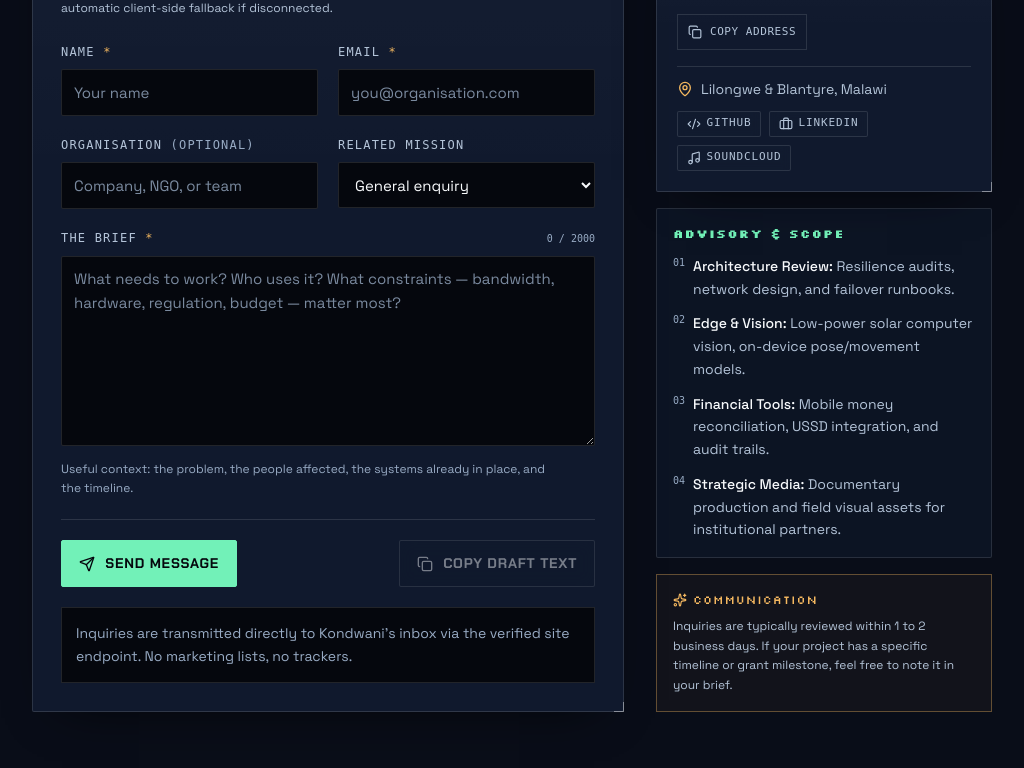
Test: <ContactView /> › blocks an empty submission and surfaces field errors
(page scrolled)
Click the button "Send message" at point(149, 564), box left=61, top=540, right=237, bottom=587
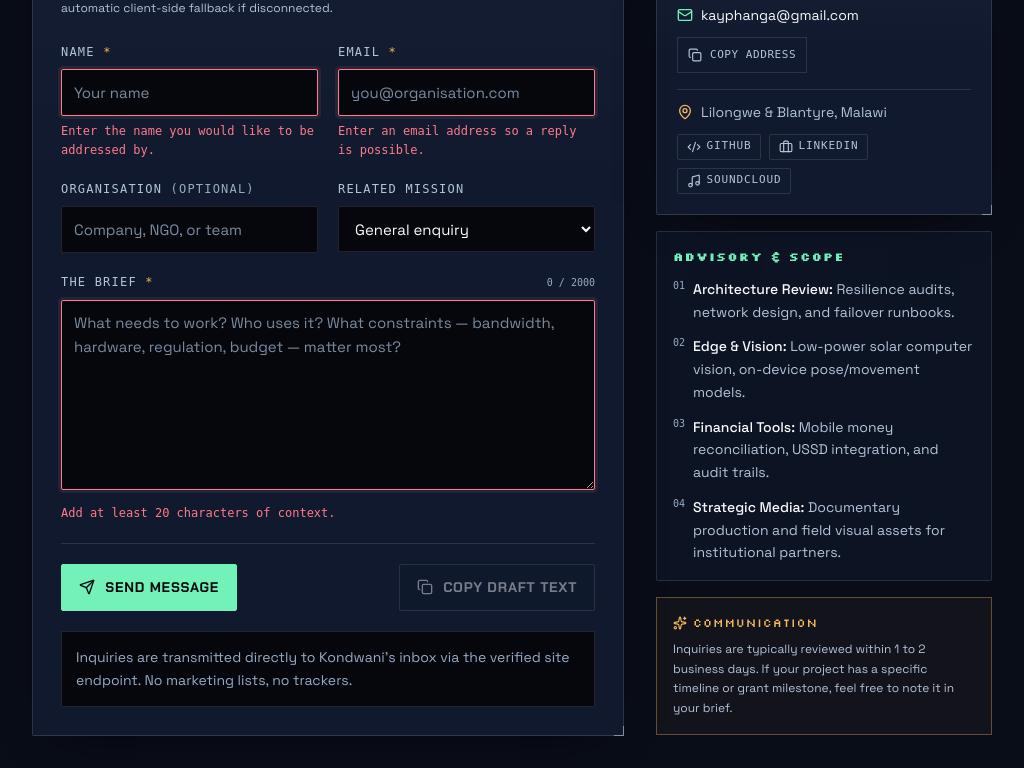
Expected: the text "Enter the name you would like to be addressed by." is shown, left=61, top=122, right=318, bottom=160
Expected: the text "Enter an email address so a reply is possible." is shown, left=338, top=122, right=595, bottom=160
Expected: the text "Add at least 20 characters of context." is shown, left=61, top=506, right=336, bottom=520
